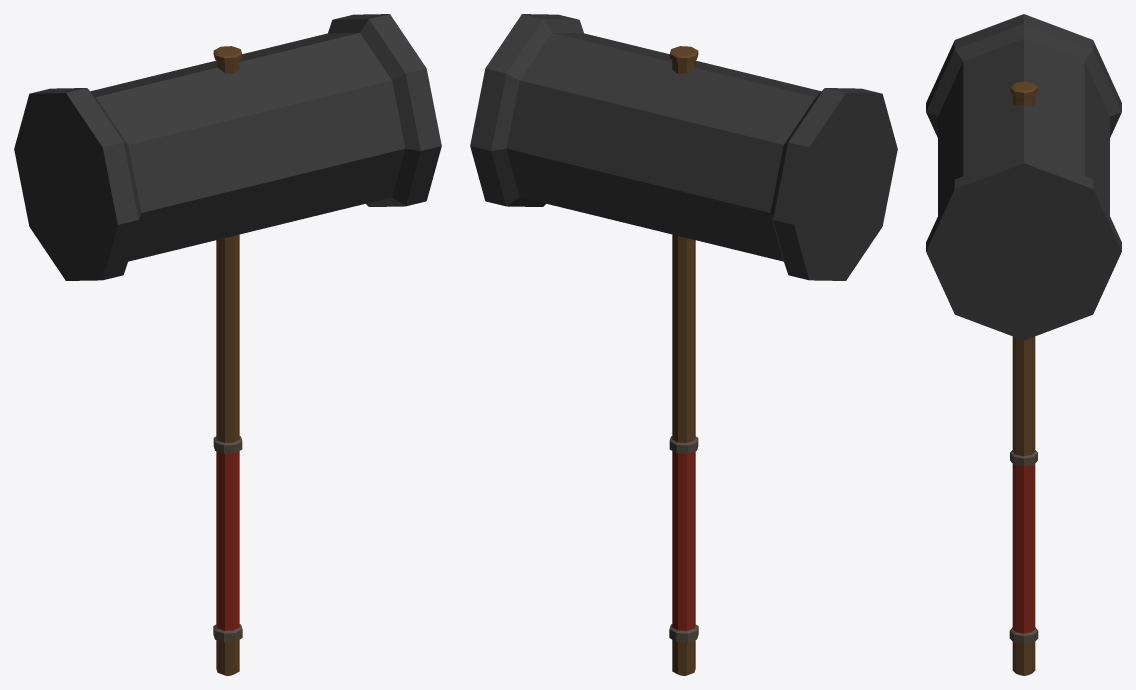
The model's file is Hammer_broken.fbx.
3 renders of one model, left to right at view 1: azimuth 30°, elevation 25°; view 2: azimuth 150°, elevation 25°; view 3: azimuth 270°, elevation 25°, orthographic. The views are drawn at different scales.
Parts seen in each view (by area): view 1: Head, Head_cell, Head_cell.004, Handle, Handle_cell, Handle_cell.002, Head_cell.003; view 2: Head, Head_cell.004, Handle, Head_cell, Handle_cell.002, Head_cell.003, Handle_cell.001; view 3: Head, Head_cell, Head_cell.004, Head_cell.002, Handle_cell.002, Handle_cell.001, Handle, Handle_cell.
Boxes of the visible parts, x1=… form: Head: x1=15, y1=14, x2=441, y2=280; Head_cell: x1=97, y1=14, x2=441, y2=252; Head_cell.004: x1=14, y1=38, x2=320, y2=280; Handle: x1=213, y1=46, x2=242, y2=674; Handle_cell: x1=213, y1=46, x2=239, y2=372; Handle_cell.002: x1=217, y1=385, x2=242, y2=535; Head_cell.003: x1=44, y1=93, x2=178, y2=243; Head: x1=470, y1=14, x2=897, y2=280; Head_cell.004: x1=472, y1=77, x2=889, y2=280; Handle: x1=669, y1=46, x2=698, y2=675; Head_cell: x1=497, y1=14, x2=892, y2=187; Handle_cell.002: x1=669, y1=362, x2=694, y2=552; Head_cell.003: x1=778, y1=83, x2=892, y2=174; Handle_cell.001: x1=669, y1=550, x2=686, y2=675; Head: x1=926, y1=14, x2=1121, y2=340; Head_cell: x1=926, y1=67, x2=1093, y2=286; Head_cell.004: x1=1042, y1=41, x2=1121, y2=315; Head_cell.002: x1=943, y1=248, x2=1086, y2=339; Handle_cell.002: x1=1010, y1=379, x2=1037, y2=561; Handle_cell.001: x1=1009, y1=552, x2=1038, y2=675; Handle: x1=1010, y1=81, x2=1037, y2=674; Handle_cell: x1=1012, y1=83, x2=1037, y2=385.
Size of the model in its own units: 6.39 by 11.73 by 3.54.
